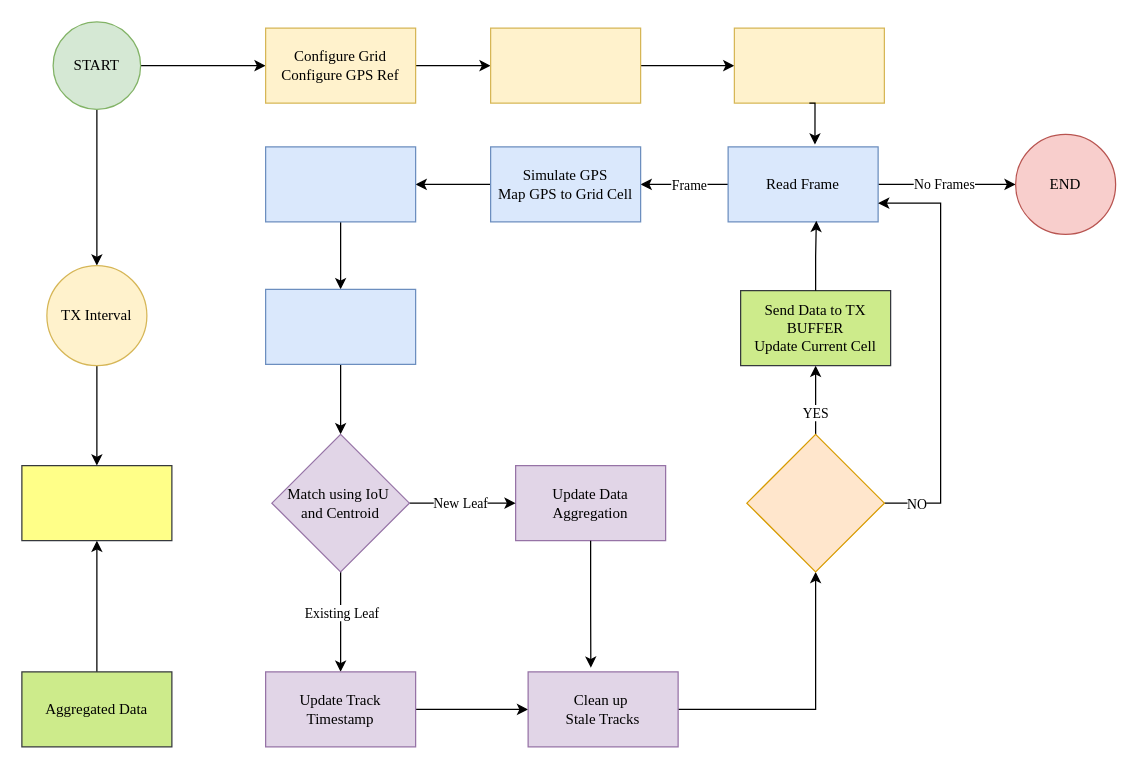
The diagram is 1138 pixels wide and 769 high, and some of its shapes have lost their labels. The box of each missing label's shape, as (x1, y1, x2, y2) in pixels:
Cell Changed: (746, 433, 884, 572)
Encrypt and Transmit via LoRa: (21, 464, 172, 541)
For Each Detection: (264, 288, 416, 364)
Initialize Sent Cache Leaf Tracks: (489, 27, 641, 103)
Load Camera: (733, 27, 884, 103)
Run YOLO Inference: (264, 146, 416, 222)
